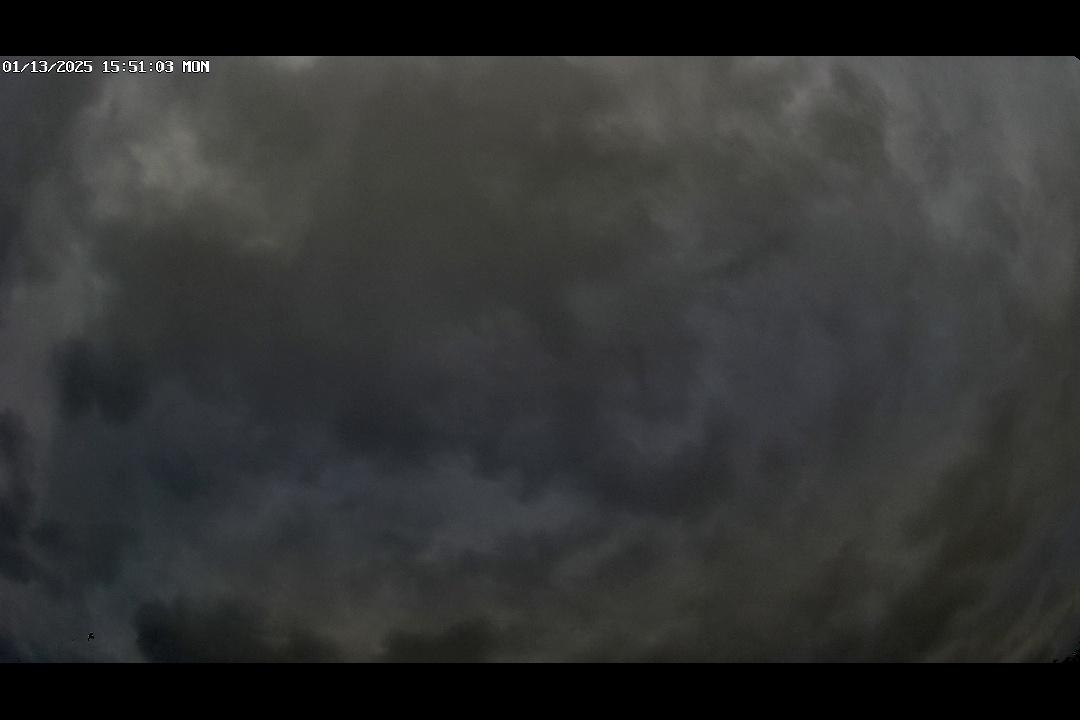WildLife: (76, 623, 108, 645)
